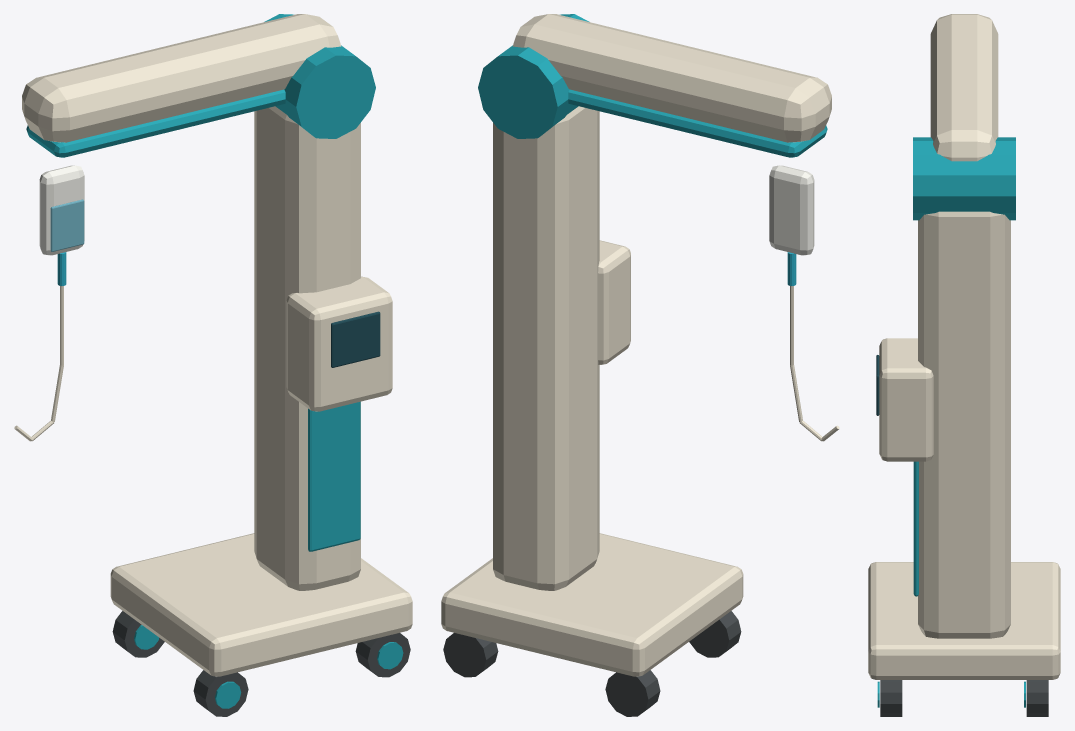
File: iv_stand_advanced.glb
3 renders of one model, left to right at view 1: azimuth 30°, elevation 25°; view 2: azimuth 150°, elevation 25°; view 3: azimuth 270°, elevation 25°, orthographic. The views are drawn at different scales.
Parts seen in each view (by area): view 1: STATIC_cream.002, STATIC_teal.002, STATIC_rubber.002, STATIC_white.002, STATIC_screen, STATIC_glass.002; view 2: STATIC_cream.002, STATIC_teal.002, STATIC_rubber.002, STATIC_white.002; view 3: STATIC_cream.002, STATIC_teal.002, STATIC_rubber.002.
Part boxes in pixels (x1,y1,x2,y2): STATIC_cream.002: [14, 14, 412, 676]; STATIC_teal.002: [26, 14, 403, 708]; STATIC_rubber.002: [112, 611, 410, 716]; STATIC_white.002: [39, 165, 84, 255]; STATIC_screen: [331, 311, 380, 367]; STATIC_glass.002: [50, 199, 84, 251]; STATIC_cream.002: [441, 14, 839, 676]; STATIC_teal.002: [478, 14, 827, 157]; STATIC_rubber.002: [443, 611, 741, 716]; STATIC_white.002: [769, 165, 814, 255]; STATIC_cream.002: [868, 14, 1060, 679]; STATIC_teal.002: [877, 137, 1025, 707]; STATIC_rubber.002: [880, 680, 1048, 716].
Bounding box in the file's own units: 1.14 × 1.96 × 0.6.
